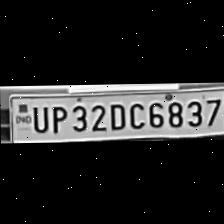2: (88, 100, 106, 130)
3: (183, 96, 201, 127), (68, 100, 86, 130)
6: (145, 98, 163, 128)
7: (202, 95, 222, 126)
8: (164, 97, 184, 127)
C: (126, 99, 144, 128)
D: (105, 100, 125, 130)
P: (47, 102, 67, 132)
U: (28, 103, 48, 132)
